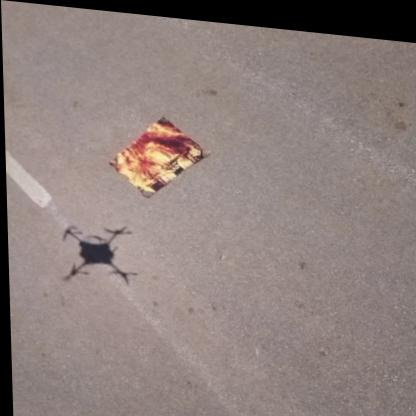fire-poster: (103, 109, 209, 201)
